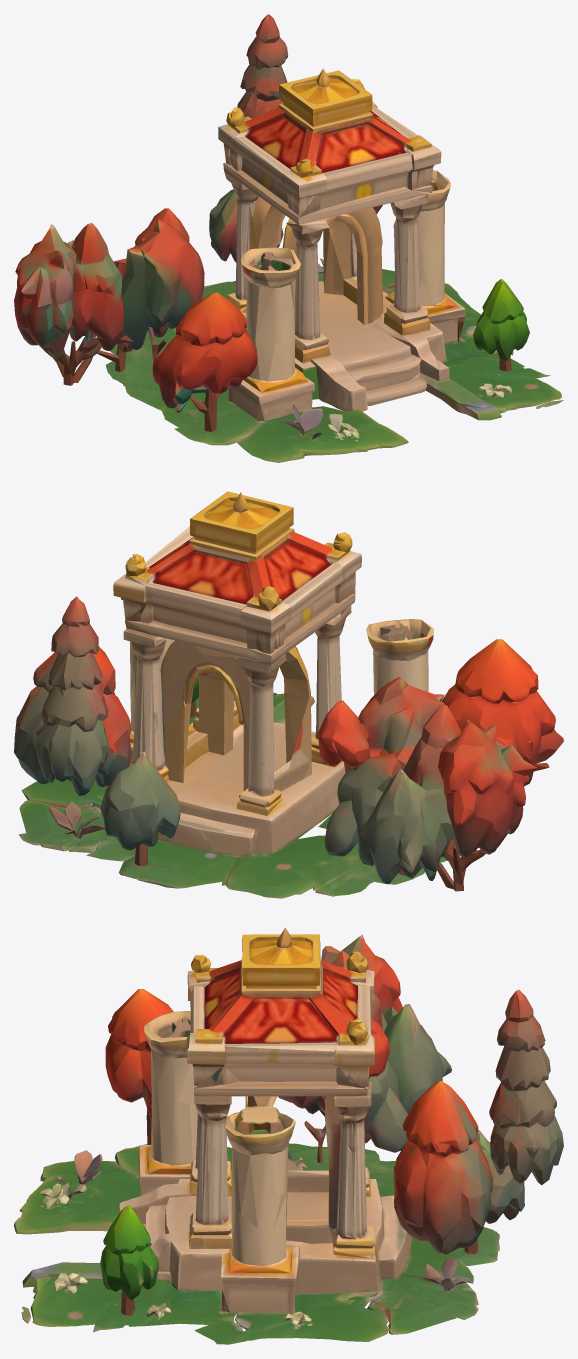
The model's file is history-v01.glb.
3 renders of one model, top to bottom at view 1: azimuth 30°, elevation 25°; view 2: azimuth 150°, elevation 25°; view 3: azimuth 270°, elevation 25°, orthographic. The views are drawn at different scales.
Visible parts, largest first — view 1: History_Structure_0; view 2: History_Structure_0; view 3: History_Structure_0.
Part boxes in pixels (x1,y1,x2,y2): History_Structure_0: (14,14,563,462); History_Structure_0: (14,491,563,898); History_Structure_0: (14,927,563,1344).
Bounding box in the file's own units: 1.41 × 0.8428 × 1.3.
Materials: 1 (1 with a texture image).
